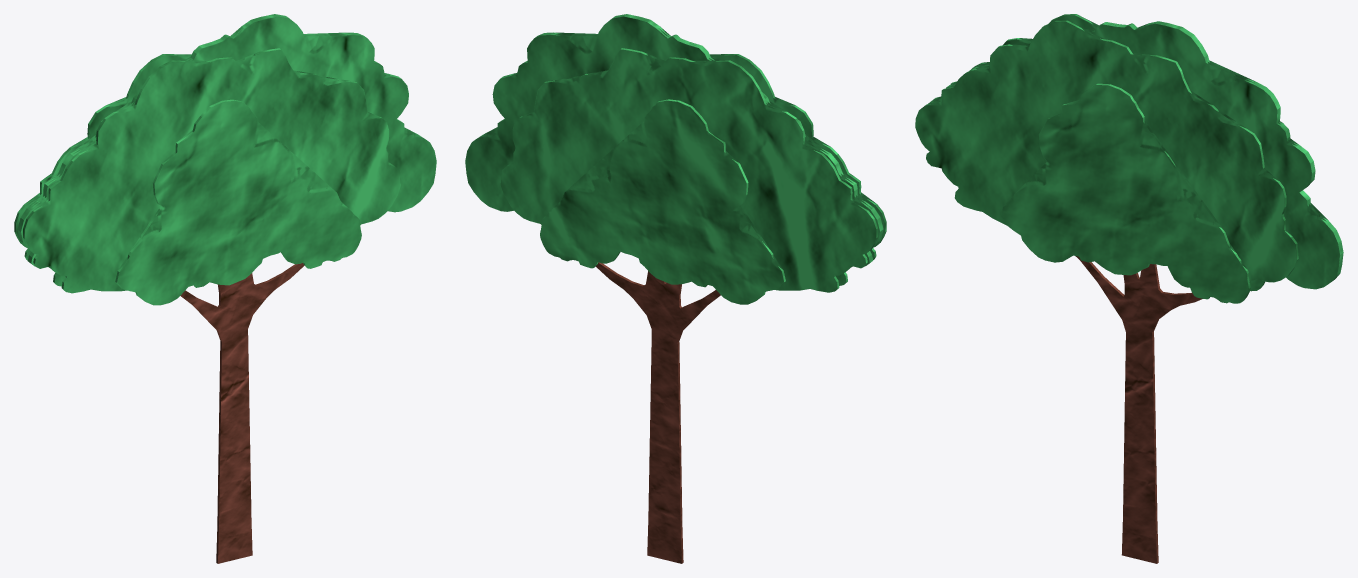
Rendered from arbre3_CI.fbx.
3 renders of one model, left to right at view 1: azimuth 30°, elevation 25°; view 2: azimuth 150°, elevation 25°; view 3: azimuth 330°, elevation 25°, orthographic.
Visible parts, largest first — view 1: feuilles3_CI, tronc3_CI; view 2: feuilles3_CI, tronc3_CI; view 3: feuilles3_CI, tronc3_CI.
Boxes of the visible parts, x1=… form: feuilles3_CI: x1=14, y1=14, x2=436, y2=305; tronc3_CI: x1=180, y1=263, x2=304, y2=563; feuilles3_CI: x1=465, y1=14, x2=886, y2=304; tronc3_CI: x1=596, y1=262, x2=720, y2=563; feuilles3_CI: x1=915, y1=14, x2=1343, y2=303; tronc3_CI: x1=1075, y1=256, x2=1202, y2=563.
Bounding box in the file's own units: 141 × 173 × 10.89.
